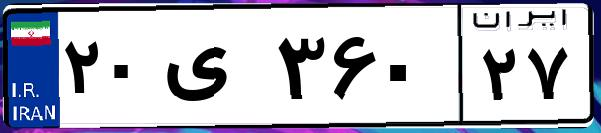0: (385, 28, 445, 110), (110, 28, 158, 98)
2: (57, 26, 110, 100), (475, 38, 525, 113)
3: (270, 28, 330, 110)
6: (330, 28, 385, 110)
7: (525, 38, 570, 115)
ی: (158, 20, 270, 120)
